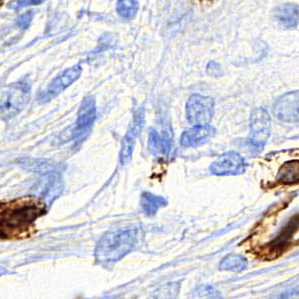Lymphocyte: (1, 194, 48, 245)
